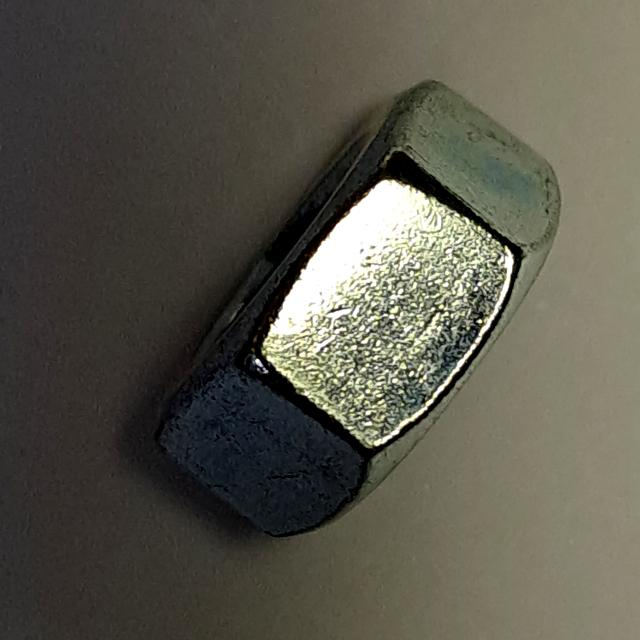Side_Excellent: (128, 55, 576, 558)
